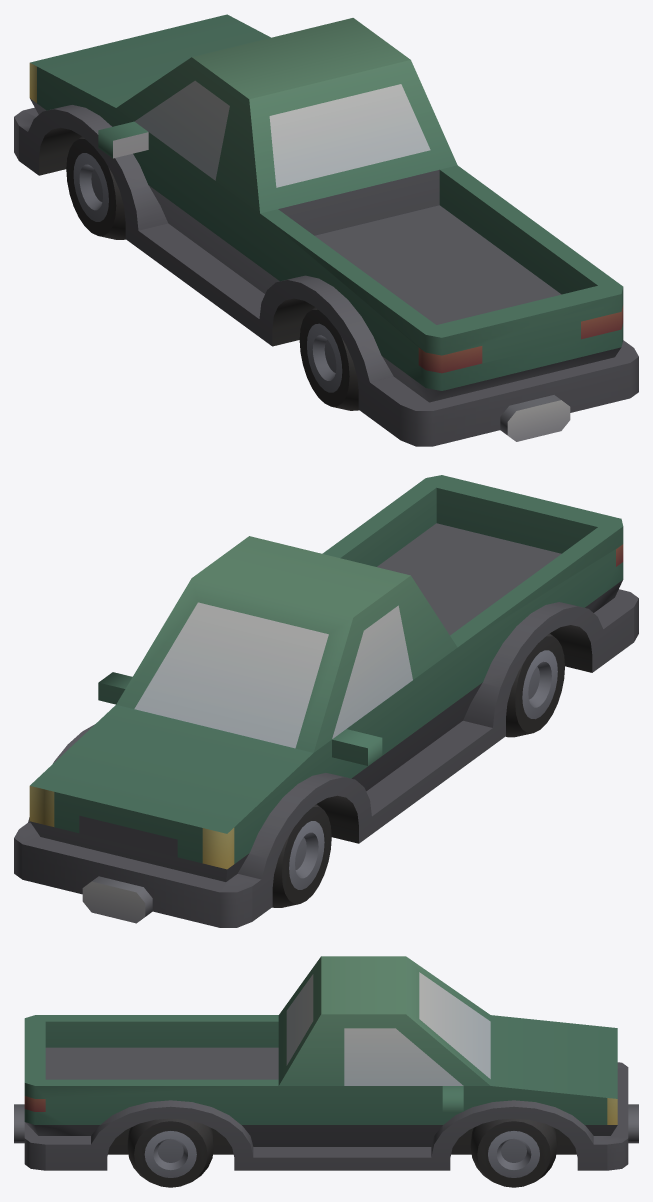
File: truck.glb
3 renders of one model, top to bottom at view 1: azimuth 30°, elevation 25°; view 2: azimuth 150°, elevation 25°; view 3: azimuth 270°, elevation 25°, orthographic. The views are drawn at different scales.
Parts seen in each view (by area): view 1: body, wheel-front-left, wheel-back-left; view 2: body, wheel-front-left, wheel-back-left; view 3: body, wheel-front-right, wheel-back-right.
Part boxes in pixels (<box>): body: <box>14,14,638,446</box>; wheel-front-left: <box>66,136,125,239</box>; wheel-back-left: <box>299,307,358,410</box>; body: <box>14,475,638,927</box>; wheel-front-left: <box>272,804,331,907</box>; wheel-back-left: <box>506,633,564,737</box>; body: <box>14,956,638,1170</box>; wheel-front-right: <box>470,1118,557,1187</box>; wheel-back-right: <box>127,1118,213,1187</box>.
Size of the model in its own units: 1.9 by 1.56 by 5.19.
Materials: 1 (1 with a texture image).
